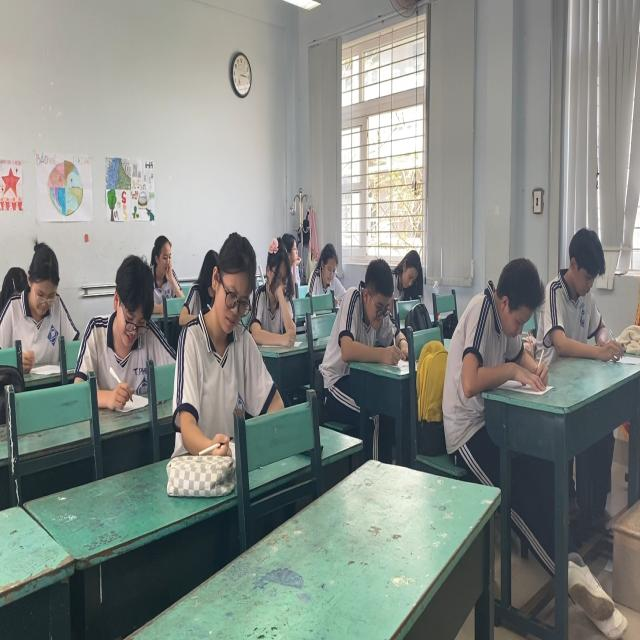not_cheating: (445, 264, 548, 418), (182, 226, 252, 433), (544, 212, 615, 360), (0, 233, 79, 364), (83, 253, 155, 395), (342, 260, 398, 367), (252, 236, 297, 347), (147, 218, 182, 298), (311, 243, 344, 298), (392, 250, 421, 305)
